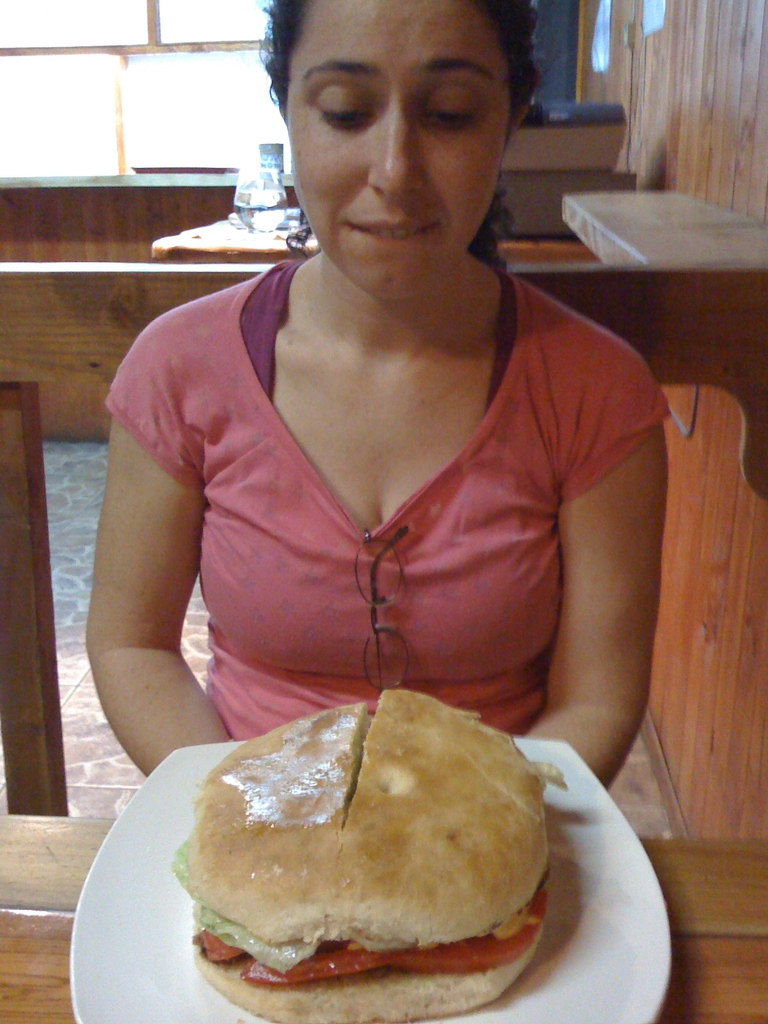Hamburger: (172, 691, 565, 1023)
